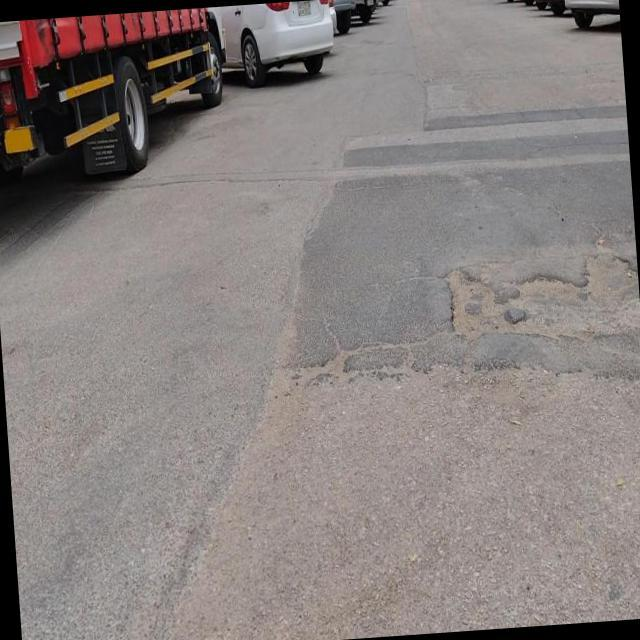Pothole: (441, 262, 526, 344), (519, 272, 597, 341)
